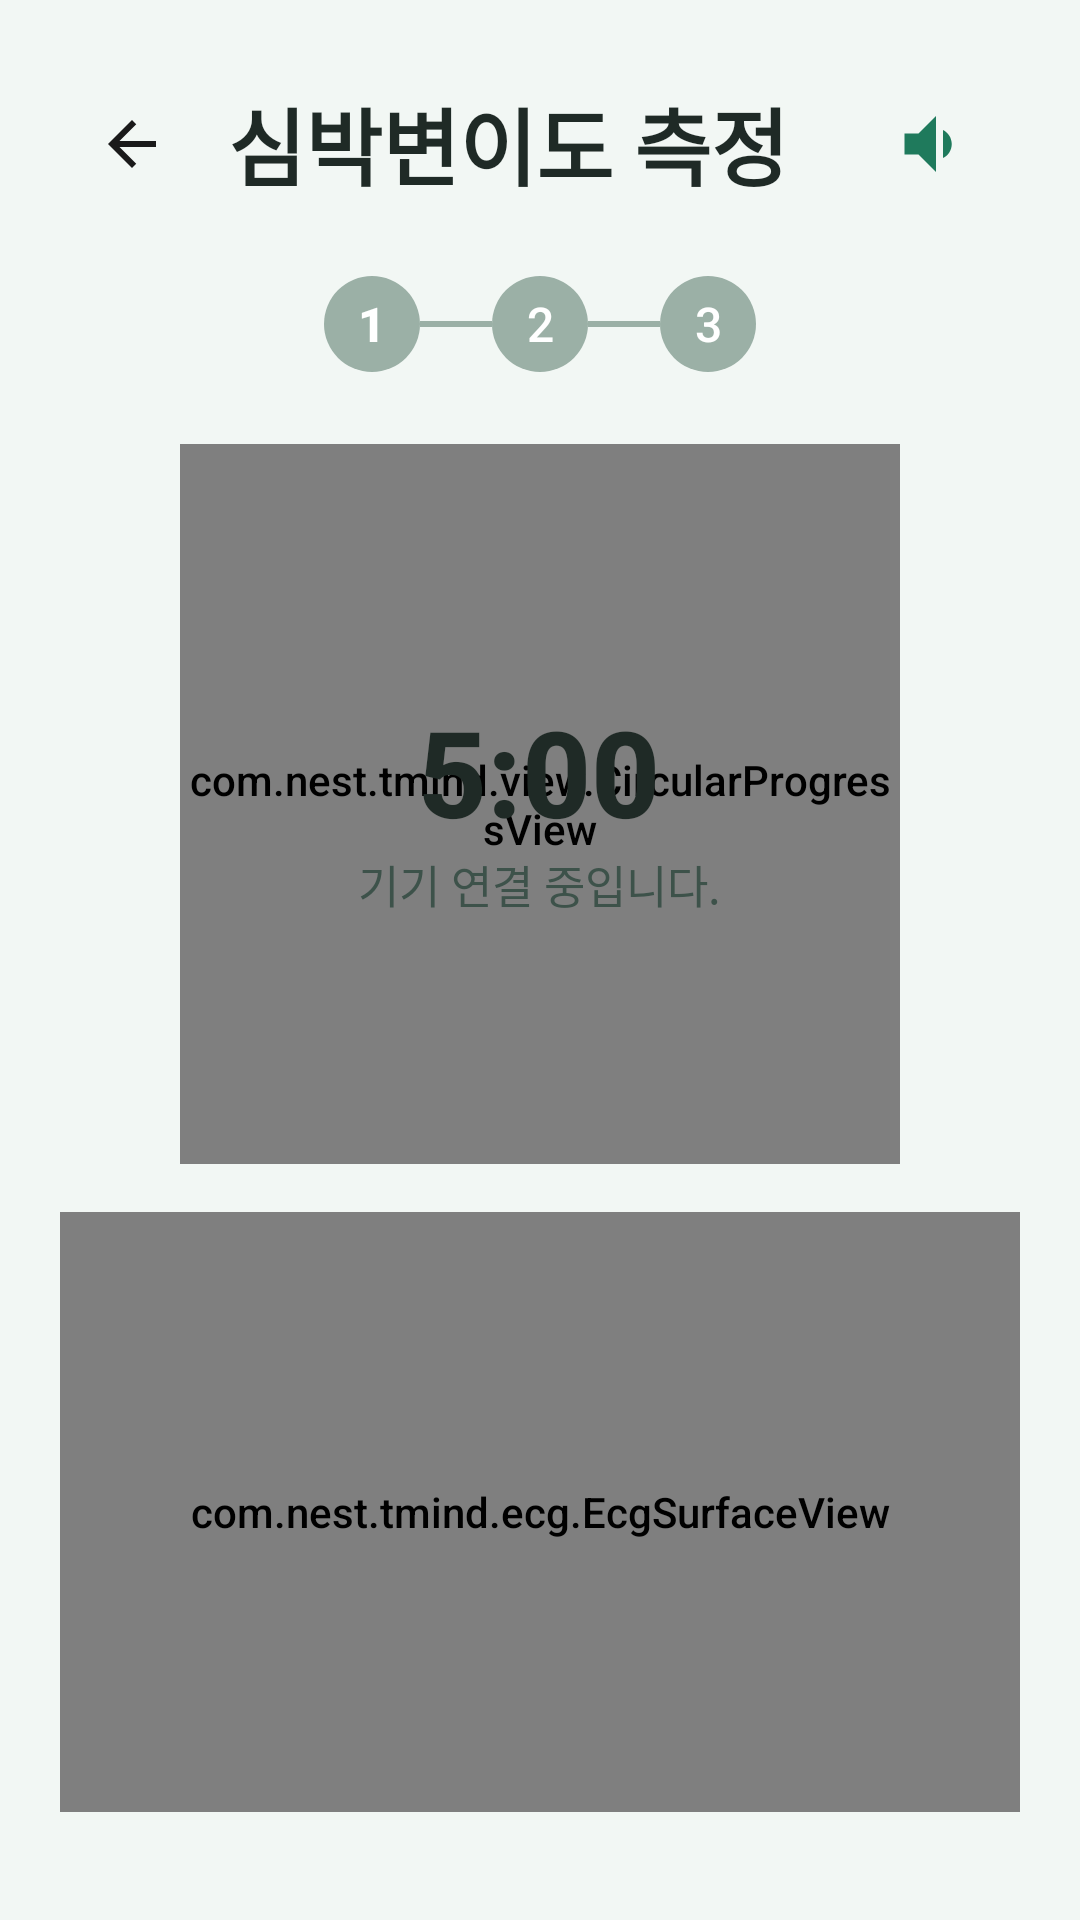

Icons on this 1080 × 1920 Android screen, each with the point to tap as (x=x, y=y):
back: (x=132, y=144)
읽어주기: (x=928, y=144)
